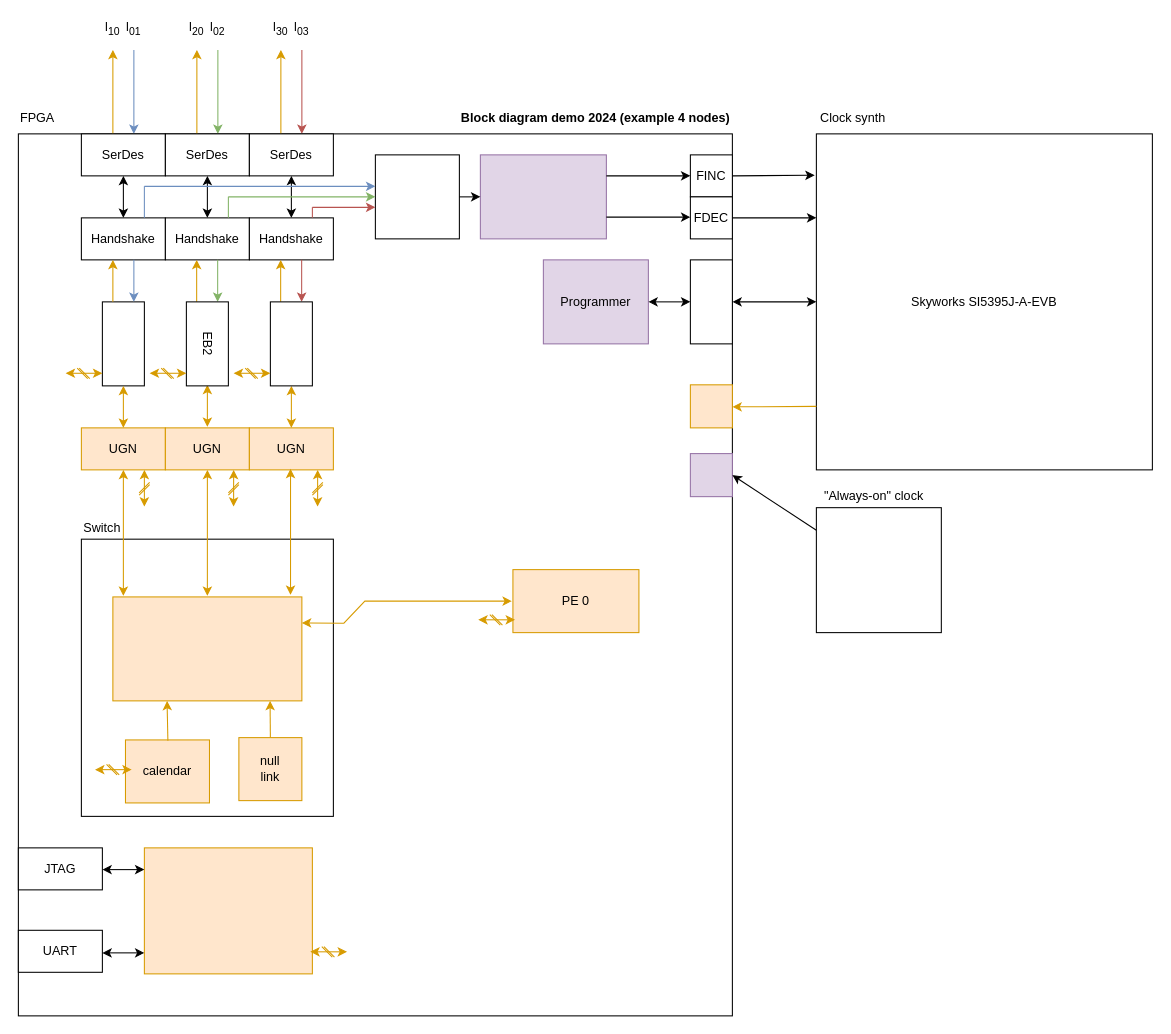
The diagram is 1171 pixels wide and 1034 high, and some of its shapes have lost their labels. Each missing label, with the box of its shape:
CLK: (689, 384, 732, 428)
Clock Control (HW or RISC-V): (479, 154, 606, 239)
crossbar: (112, 596, 302, 701)
DDCs: (374, 154, 459, 239)
EB1: (101, 301, 144, 386)
EB3: (269, 301, 312, 386)
Management Unit (RISC-V / VexRiscV): (143, 847, 312, 974)
REF CLK: (689, 453, 732, 497)
SPI: (689, 259, 732, 344)
